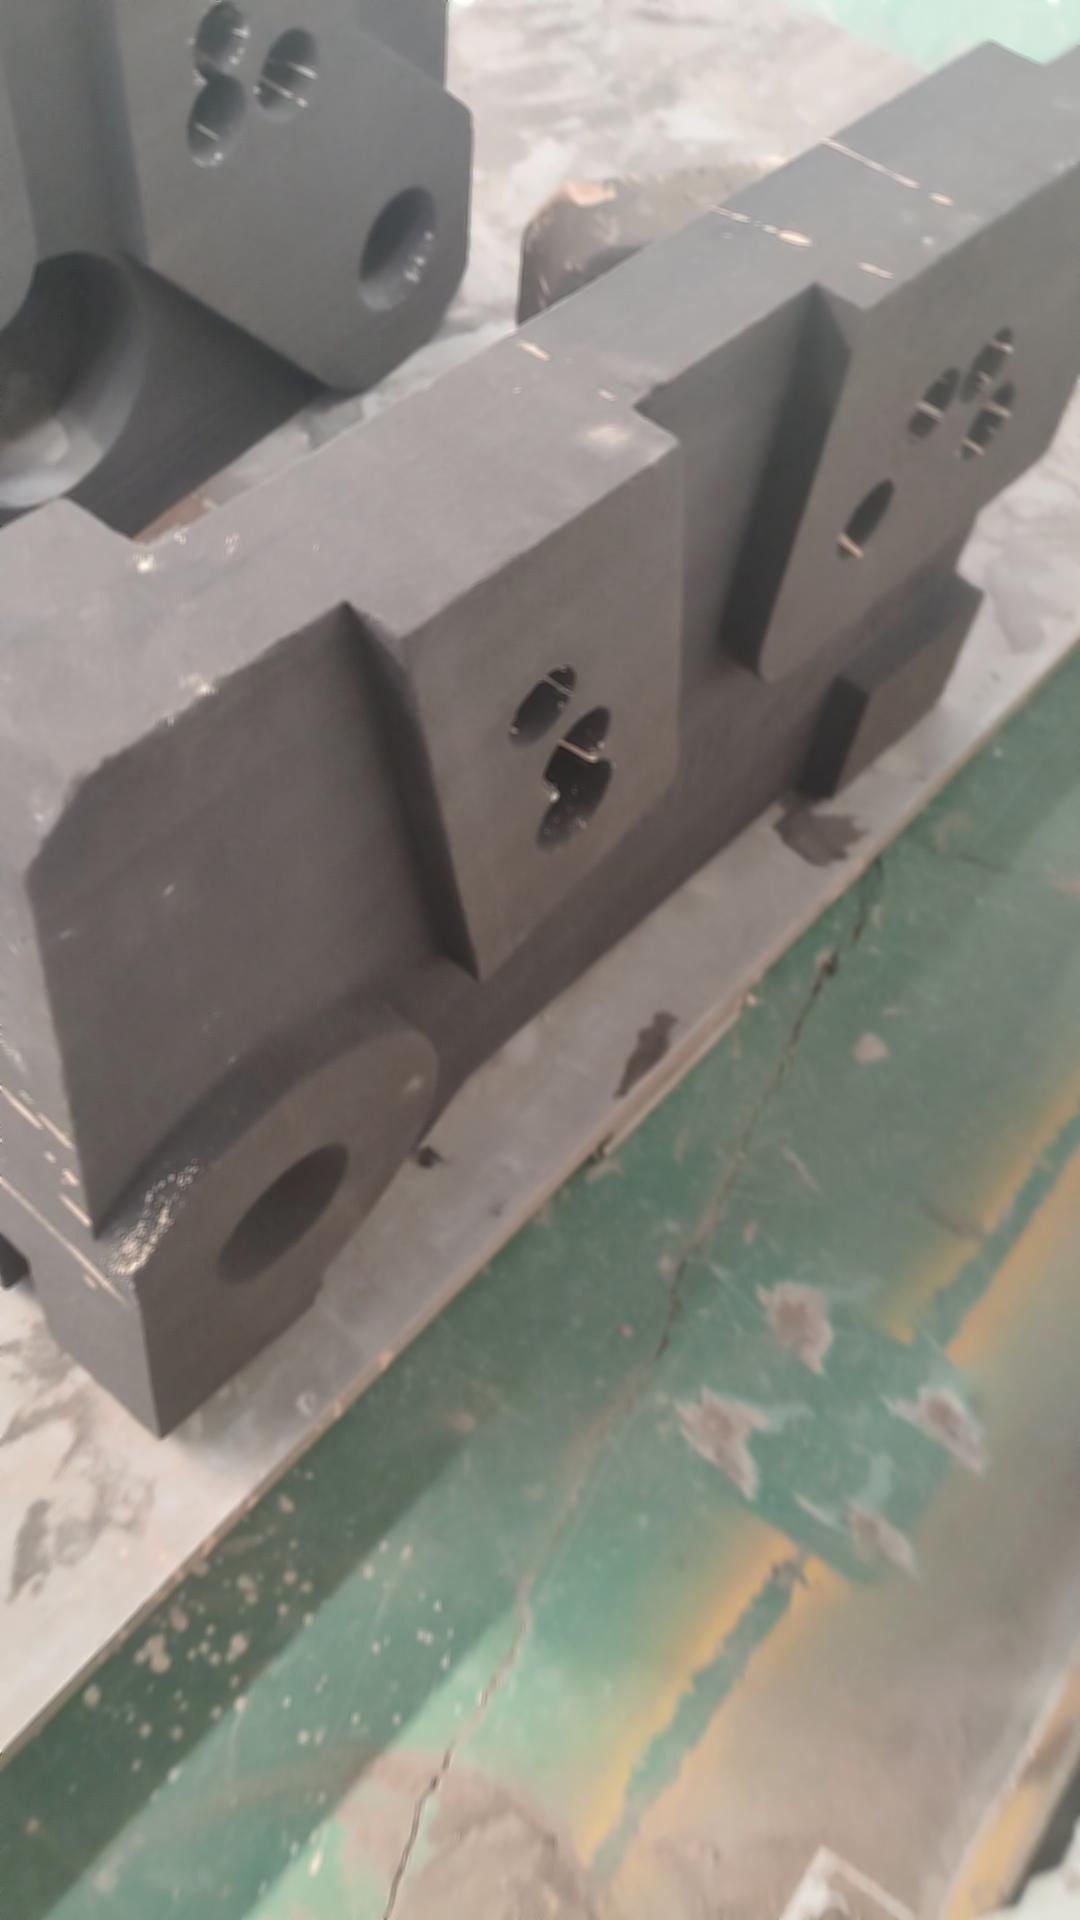pouring hole: (214, 1141, 351, 1280), (352, 185, 440, 313)
